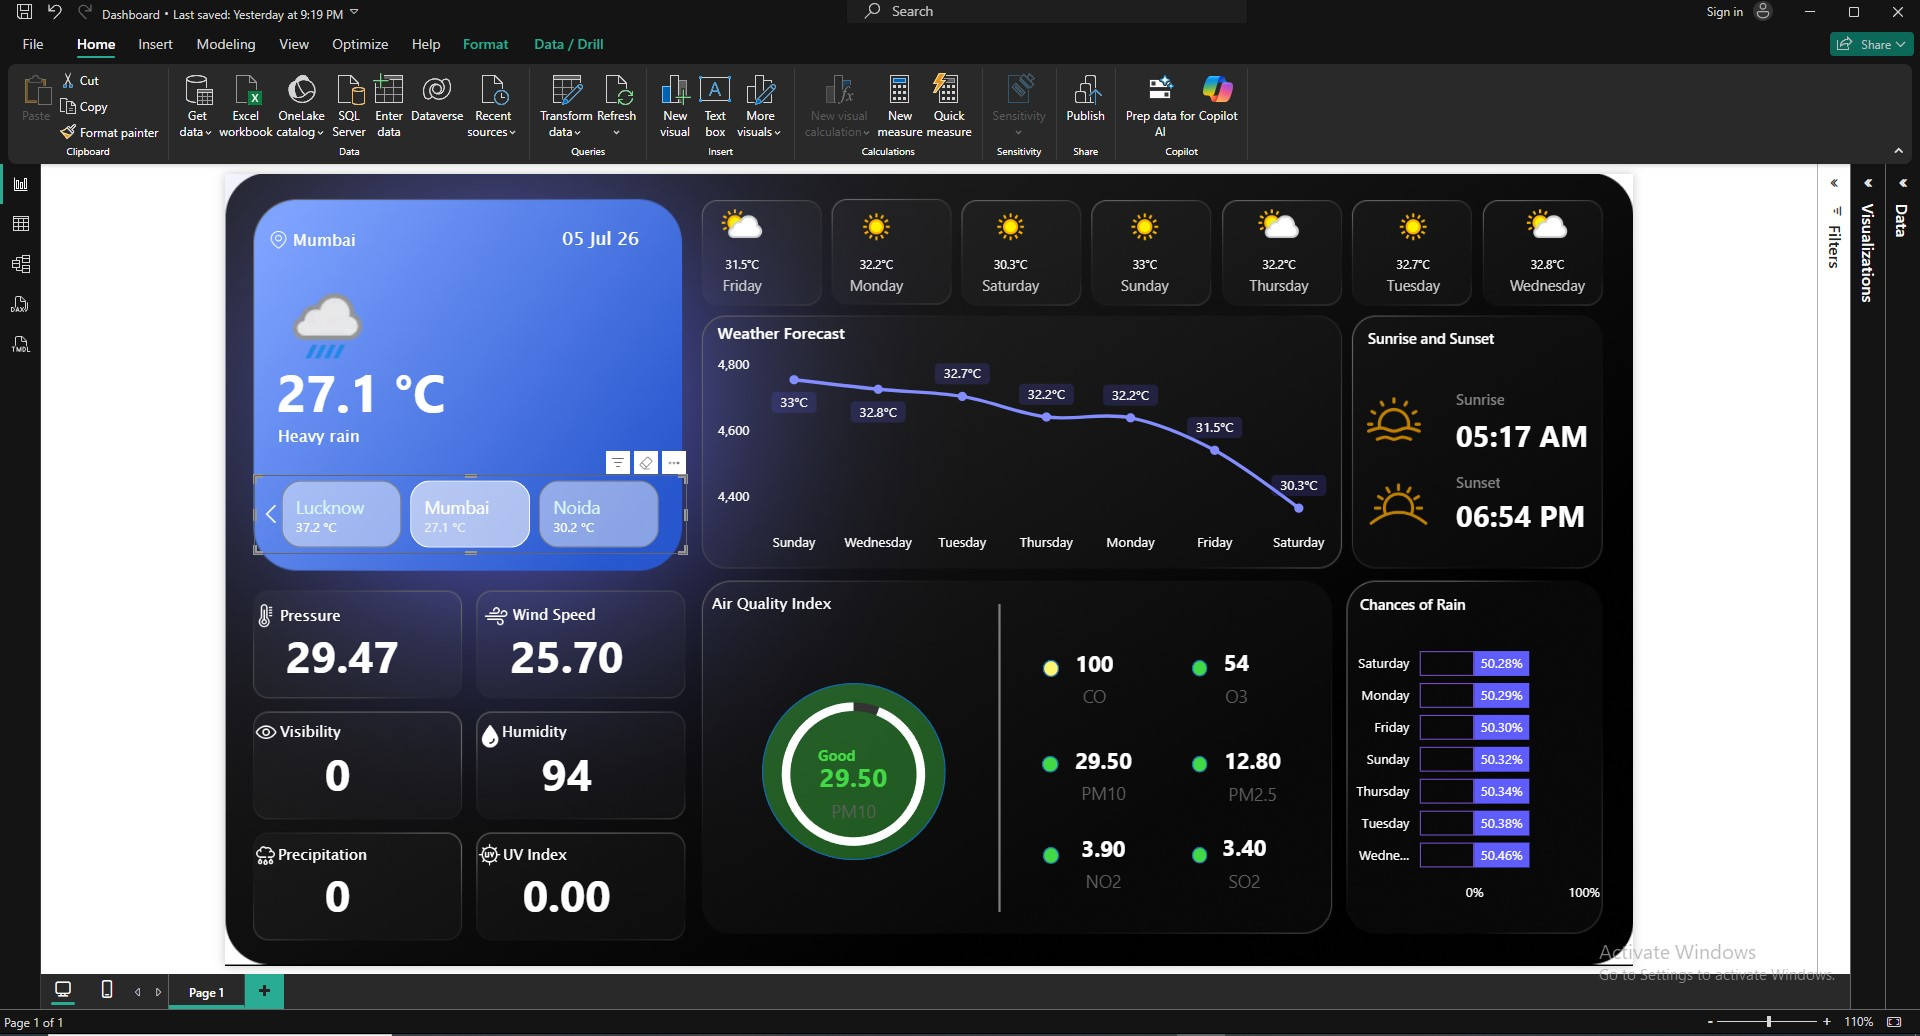

The page's visual inventory and layout, read from the dashboard file:
{"tool":"powerbi","page":{"name":"Page 1","canvas":[1280,720],"ordinal":0},"visuals":[{"type":"shape","box":[488,463,167,161],"z":0},{"type":"advancedSlicerVisual","fields":{"Values":["Current.location.name"]},"box":[26,274,394,71],"z":1000},{"type":"shape","box":[47.5,150,193.8,93.8],"z":2000},{"type":"shape","box":[47.8,222.2,281.1,34.4],"z":3000},{"type":"shape","box":[306.7,42.2,85.6,35.6],"z":4000},{"type":"shape","box":[62.2,43.3,281.1,34.4],"z":5000},{"type":"image","box":[37.9,52.1,20.7,16.4],"z":6000},{"type":"cardVisual","fields":{"Data":["Min(Current.current.condition.icon)"]},"box":[37.8,0,110,185.6],"z":7000},{"type":"image","box":[26.4,390,21.4,23.6],"z":8000},{"type":"shape","box":[50,384.4,61.1,35.6],"z":9000},{"type":"image","box":[235,390,22.1,23.6],"z":10000},{"type":"image","box":[230,499,21.9,23.8],"z":11000},{"type":"image","box":[26.7,495.7,21.9,23.3],"z":12000},{"type":"image","box":[26.4,607.9,21.4,23.6],"z":13000},{"type":"image","box":[230,607.6,21.4,23.3],"z":14000},{"type":"shape","box":[261.5,383.8,90.8,35.4],"z":15000},{"type":"shape","box":[251.5,490,90.8,35.4],"z":16000},{"type":"shape","box":[50,490,60.8,35.4],"z":17000},{"type":"shape","box":[252.3,601.5,90.8,35.4],"z":18000},{"type":"shape","box":[48.5,601.5,83.1,35.4],"z":19000},{"type":"card","fields":{"Values":["Sum(Current.current.pressure_in)"]},"box":[38.2,408.9,136.8,57.5],"z":20000},{"type":"card","fields":{"Values":["Sum(Current.current.wind_mph)"]},"box":[246.2,408.8,128.8,57.5],"z":21000},{"type":"card","fields":{"Values":["Sum(Current.current.vis_miles)"]},"box":[38.2,516.4,128.6,57.9],"z":22000},{"type":"card","fields":{"Values":["Sum(Current.current.humidity)"]},"box":[246.1,516.4,128.6,57.9],"z":23000},{"type":"card","fields":{"Values":["Sum(Current.current.uv)"]},"box":[246.8,626.1,128.6,57.9],"z":24000},{"type":"card","fields":{"Values":["Sum(Current.current.precip_in)"]},"box":[38.6,626.1,128.6,57.9],"z":25000},{"type":"advancedSlicerVisual","fields":{"Values":["Forecast_Day.Day_Name"]},"box":[408.2,20,856.4,115.5],"z":26000},{"type":"lineChart","title":"Weather Forecast","fields":{"Category":["Forecast_Day.Day_Name"],"Y":["Sum(Forecast_Day.forecast.forecastday.day.avgtemp_c)"]},"box":[442.7,133.6,569.1,219.1],"z":27000},{"type":"shape","box":[1038.8,131.2,160,36.2],"z":28000},{"type":"shape","box":[1118.8,216.2,125,41.2],"z":29000},{"type":"shape","box":[1118.8,290,122.5,40],"z":30000},{"type":"shape","box":[1118.8,187.5,161.2,35],"z":31000},{"type":"shape","box":[1118.9,262.6,161.1,34.7],"z":32000},{"type":"image","box":[1038.2,187.3,49.1,71.8],"z":33000},{"type":"image","box":[1032,259.5,69.5,82],"z":34000},{"type":"hundredPercentStackedBarChart","title":"Chances of Rain","fields":{"Category":["Forecast_Day.Day_Name"],"Y":["Sum(Forecast_Day.forecast.forecastday.day.daily_chance_of_rain)","_Measures.Left_value_Rainn"]},"box":[1011.8,409,243.4,262.5],"z":35000},{"type":"shape","box":[442.5,373.8,128.8,35],"z":36000},{"type":"card","fields":{"Values":["Sum(Current.current.air_quality.co)"]},"box":[750,423.6,80.9,66.4],"z":37000},{"type":"card","fields":{"Values":["Sum(Current.current.air_quality.o3)"]},"box":[879,424,81,66],"z":38000},{"type":"card","fields":{"Values":["Sum(Current.current.air_quality.pm10)"]},"box":[758.2,511.8,80.9,66.4],"z":39000},{"type":"card","fields":{"Values":["Sum(Current.current.air_quality.no2)"]},"box":[758.2,591.8,80.9,66.4],"z":40000},{"type":"card","fields":{"Values":["Sum(Current.current.air_quality.pm2_5)"]},"box":[894,512,81,67],"z":41000},{"type":"card","fields":{"Values":["Sum(Current.current.air_quality.so2)"]},"box":[886,592,81,66],"z":42000},{"type":"shape","box":[742.5,529.2,15,15],"z":43000},{"type":"shape","box":[743.6,441.8,14.5,15.5],"z":44000},{"type":"shape","box":[743.6,611.8,14.5,15.5],"z":45000},{"type":"shape","box":[879,529,14,15],"z":46000},{"type":"shape","box":[879,612,14,15],"z":47000},{"type":"shape","box":[879,442,14,15],"z":48000},{"type":"shape","box":[629,391,150,280],"z":49000},{"type":"card","fields":{"Values":["Sum(Current.current.air_quality.pm10)"]},"box":[531,526,81,66],"z":50000},{"type":"donutChart","fields":{"Y":["Sum(Current.current.air_quality.pm10)","_Measures.Left_value_PM10"]},"box":[462,459,219,173],"z":51000},{"type":"shape","box":[539,517,73,20],"z":52000},{"type":"shape","box":[1032.1,374.1,113.8,34.9],"z":52001}]}

Visuals, with their boxes on the page's 1280x720 design canvas (x1, y1, x2, y2). These are canvas units, not pixel positions in the 1920x1036 screenshot, which may show the page scaled, cropped or inside an application window:
shape: crop(488, 463, 655, 624)
advancedSlicerVisual - Current.location.name: crop(26, 274, 420, 345)
shape: crop(48, 150, 241, 244)
shape: crop(48, 222, 329, 257)
shape: crop(307, 42, 392, 78)
shape: crop(62, 43, 343, 78)
image: crop(38, 52, 59, 68)
cardVisual - Min(Current.current.condition.icon): crop(38, 0, 148, 186)
image: crop(26, 390, 48, 414)
shape: crop(50, 384, 111, 420)
image: crop(235, 390, 257, 414)
image: crop(230, 499, 252, 523)
image: crop(27, 496, 49, 519)
image: crop(26, 608, 48, 632)
image: crop(230, 608, 251, 631)
shape: crop(262, 384, 352, 419)
shape: crop(252, 490, 342, 525)
shape: crop(50, 490, 111, 525)
shape: crop(252, 602, 343, 637)
shape: crop(48, 602, 132, 637)
card - Sum(Current.current.pressure_in): crop(38, 409, 175, 466)
card - Sum(Current.current.wind_mph): crop(246, 409, 375, 466)
card - Sum(Current.current.vis_miles): crop(38, 516, 167, 574)
card - Sum(Current.current.humidity): crop(246, 516, 375, 574)
card - Sum(Current.current.uv): crop(247, 626, 375, 684)
card - Sum(Current.current.precip_in): crop(39, 626, 167, 684)
advancedSlicerVisual - Forecast_Day.Day_Name: crop(408, 20, 1265, 136)
"Weather Forecast" lineChart: crop(443, 134, 1012, 353)
shape: crop(1039, 131, 1199, 167)
shape: crop(1119, 216, 1244, 257)
shape: crop(1119, 290, 1241, 330)
shape: crop(1119, 188, 1280, 222)
shape: crop(1119, 263, 1280, 297)
image: crop(1038, 187, 1087, 259)
image: crop(1032, 260, 1102, 342)
"Chances of Rain" hundredPercentStackedBarChart: crop(1012, 409, 1255, 672)
shape: crop(442, 374, 571, 409)
card - Sum(Current.current.air_quality.co): crop(750, 424, 831, 490)
card - Sum(Current.current.air_quality.o3): crop(879, 424, 960, 490)
card - Sum(Current.current.air_quality.pm10): crop(758, 512, 839, 578)
card - Sum(Current.current.air_quality.no2): crop(758, 592, 839, 658)
card - Sum(Current.current.air_quality.pm2_5): crop(894, 512, 975, 579)
card - Sum(Current.current.air_quality.so2): crop(886, 592, 967, 658)
shape: crop(742, 529, 758, 544)
shape: crop(744, 442, 758, 457)
shape: crop(744, 612, 758, 627)
shape: crop(879, 529, 893, 544)
shape: crop(879, 612, 893, 627)
shape: crop(879, 442, 893, 457)
shape: crop(629, 391, 779, 671)
card - Sum(Current.current.air_quality.pm10): crop(531, 526, 612, 592)
donutChart - Sum(Current.current.air_quality.pm10) x _Measures.Left_value_PM10: crop(462, 459, 681, 632)
shape: crop(539, 517, 612, 537)
shape: crop(1032, 374, 1146, 409)
